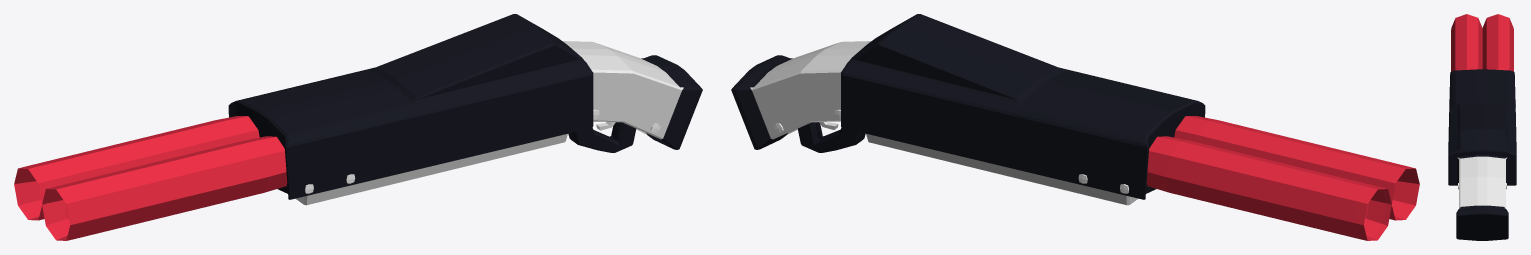
Rendered from Shotgun.glb.
3 renders of one model, left to right at view 1: azimuth 30°, elevation 25°; view 2: azimuth 150°, elevation 25°; view 3: azimuth 270°, elevation 25°, orthographic. The views are drawn at different scales.
Visible parts, largest first — view 1: Cube.002, Cube, Cube.001, Cube.003; view 2: Cube.002, Cube.001, Cube, Cube.003; view 3: Cube.002, Cube.001, Cube.
Boxes of the visible parts, x1,y1,x2,y2 form: Cube.002: [228, 14, 702, 199]; Cube: [42, 136, 287, 240]; Cube.001: [14, 116, 259, 220]; Cube.003: [296, 134, 567, 205]; Cube.002: [731, 14, 1205, 199]; Cube.001: [1146, 136, 1391, 240]; Cube: [1174, 116, 1419, 220]; Cube.003: [866, 134, 1137, 205]; Cube.002: [1448, 69, 1516, 240]; Cube.001: [1482, 14, 1513, 71]; Cube: [1451, 14, 1482, 71].
Size of the model in its own units: 4.91 by 1.05 by 0.8162.
